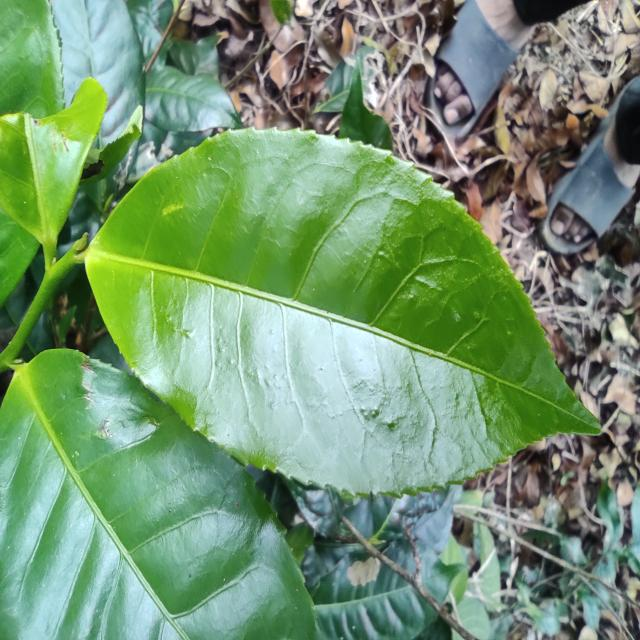Category D 7+ days, Not for Tea: (83, 116, 621, 500)
